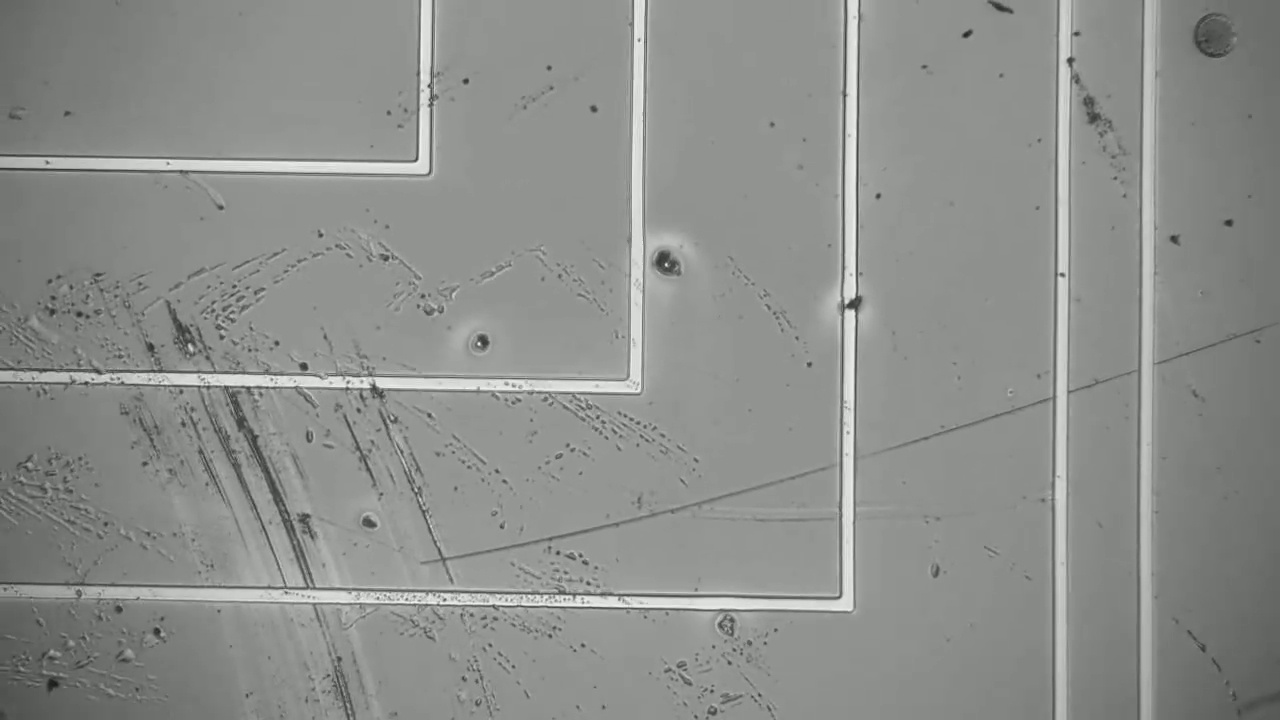scratch: (429, 323, 1270, 566), (173, 323, 360, 707), (367, 373, 458, 586)
stains_enbedded: (1141, 609, 1270, 719), (816, 272, 880, 331)
